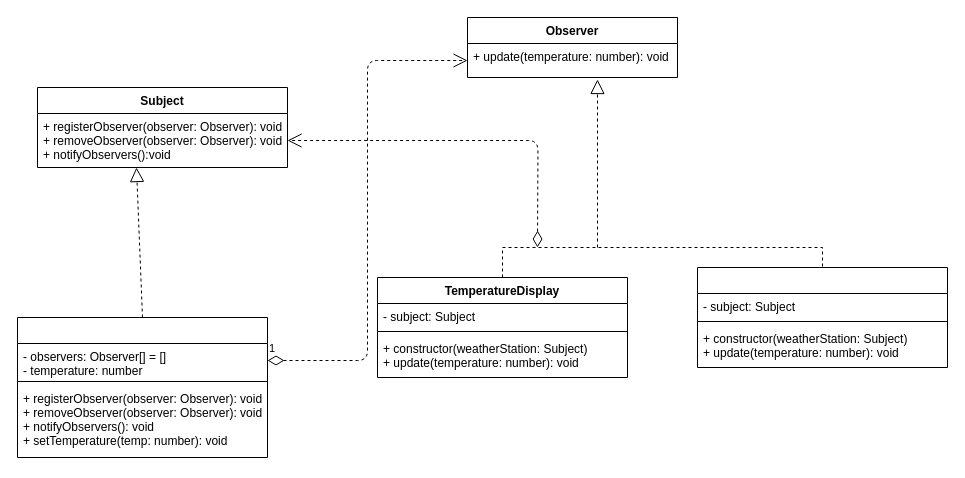
The diagram is 965 pixels wide and 478 high, and some of its shapes have lost their labels. The box of each missing label's shape, as (x1, y1, x2, y2) in pixels:
Climat: (696, 266, 948, 368)
WeatherStation: (16, 316, 268, 458)
